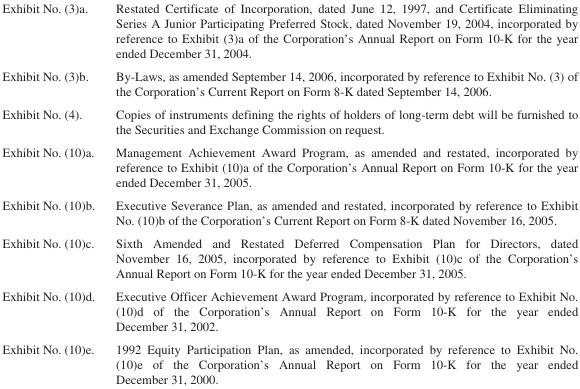table: (1, 0, 577, 385)
table column: (104, 0, 577, 385), (1, 0, 104, 385)
table row: (1, 0, 577, 64), (1, 140, 577, 193), (1, 231, 577, 284), (1, 284, 577, 337), (1, 337, 577, 385), (1, 64, 577, 102), (1, 102, 577, 140), (1, 193, 577, 231)
